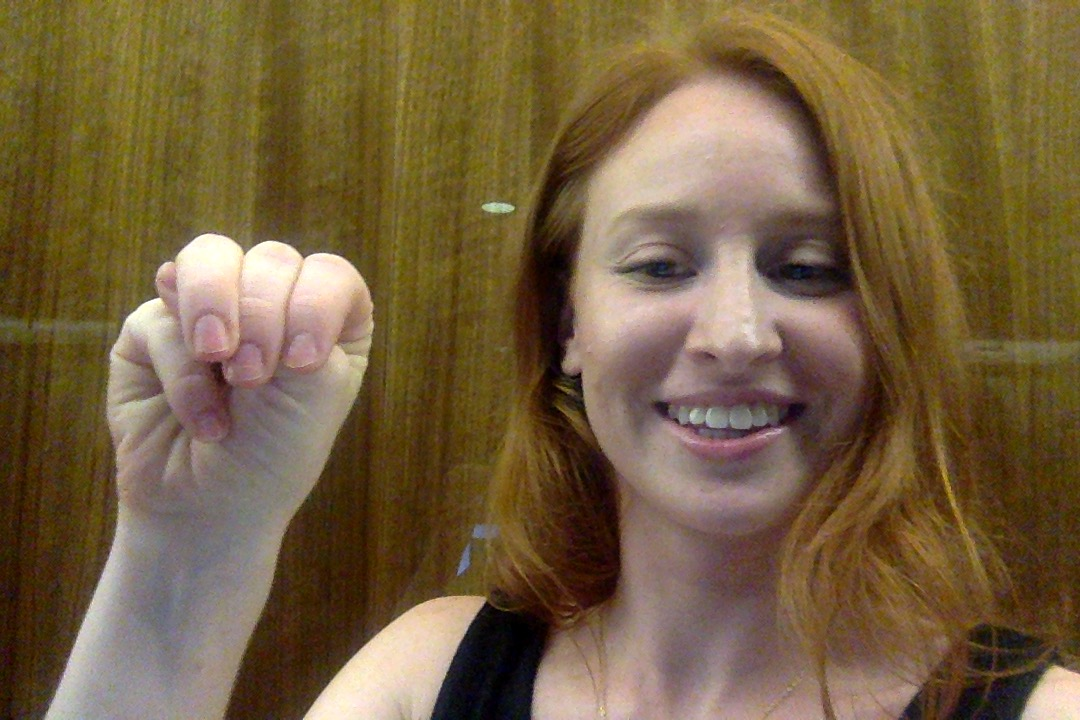m: (98, 228, 383, 521)
